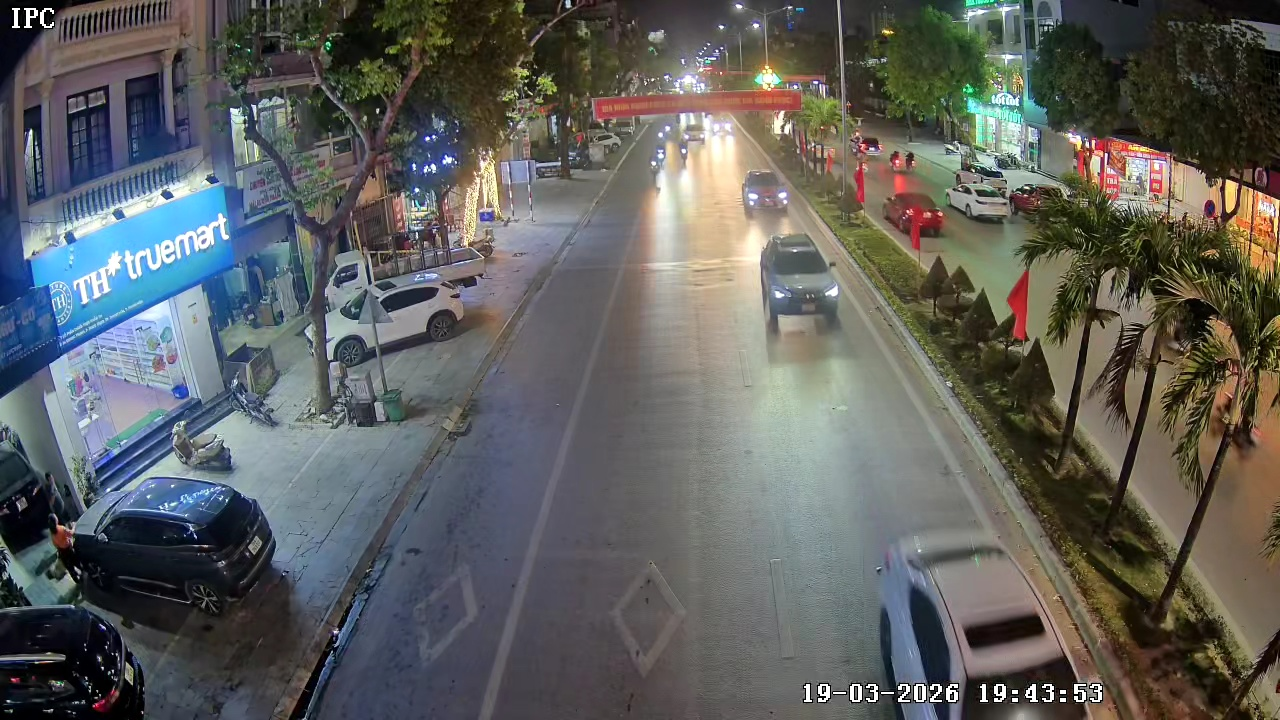car: (862, 532, 1107, 719), (62, 474, 287, 616), (0, 603, 150, 719), (335, 267, 470, 360), (947, 151, 1071, 222), (758, 231, 842, 328), (881, 183, 947, 240), (741, 168, 790, 215)
motorbike: (174, 419, 237, 473), (652, 141, 666, 171)
